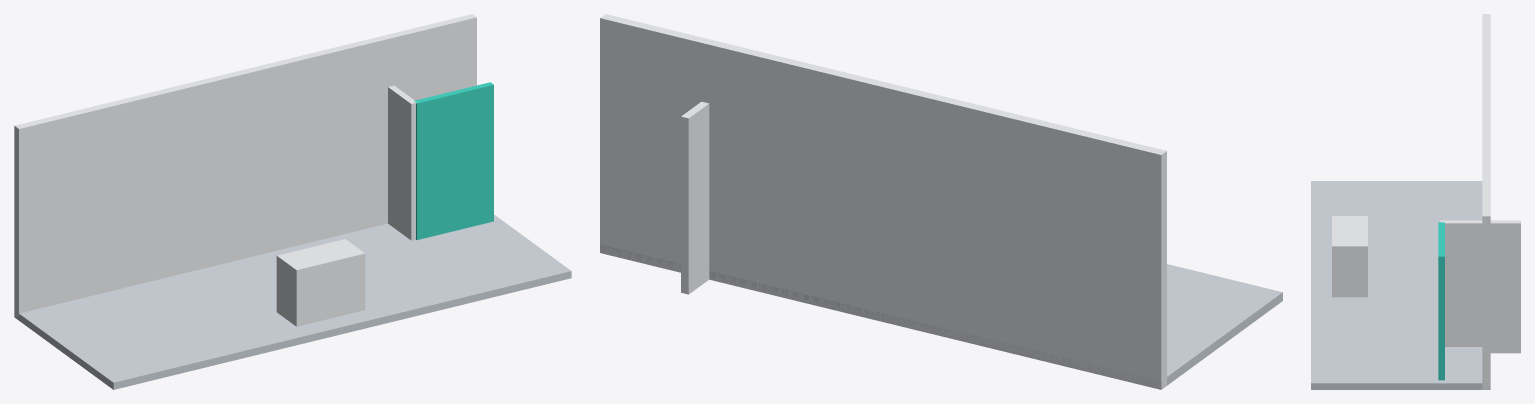
The picture shows the model from 3 angles, left to right: view 1: azimuth 30°, elevation 25°; view 2: azimuth 150°, elevation 25°; view 3: azimuth 270°, elevation 25°; orthographic projection. The views are drawn at different scales.
Parts seen in each view (by area): view 1: Exhibition Booth Concept; view 2: Exhibition Booth Concept; view 3: Exhibition Booth Concept.
Boxes of the visible parts, box(x1,y1,x2,y2) form: Exhibition Booth Concept: box(14, 14, 571, 389); Exhibition Booth Concept: box(600, 14, 1282, 389); Exhibition Booth Concept: box(1311, 14, 1520, 389).
Size of the model in its own units: 8 by 3.2 by 3.51.
